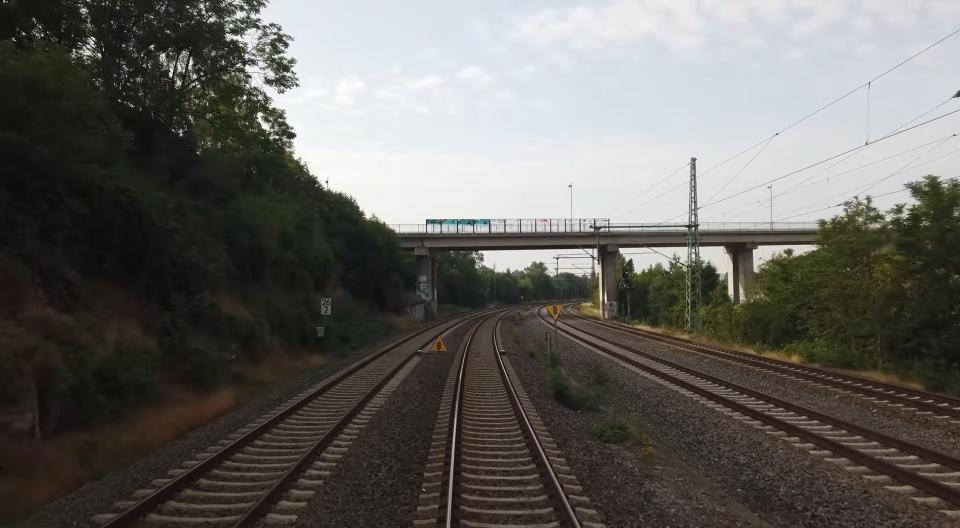Plant: (545, 353, 597, 411), (592, 411, 634, 444), (510, 330, 536, 358), (638, 444, 658, 475), (590, 365, 608, 385)
